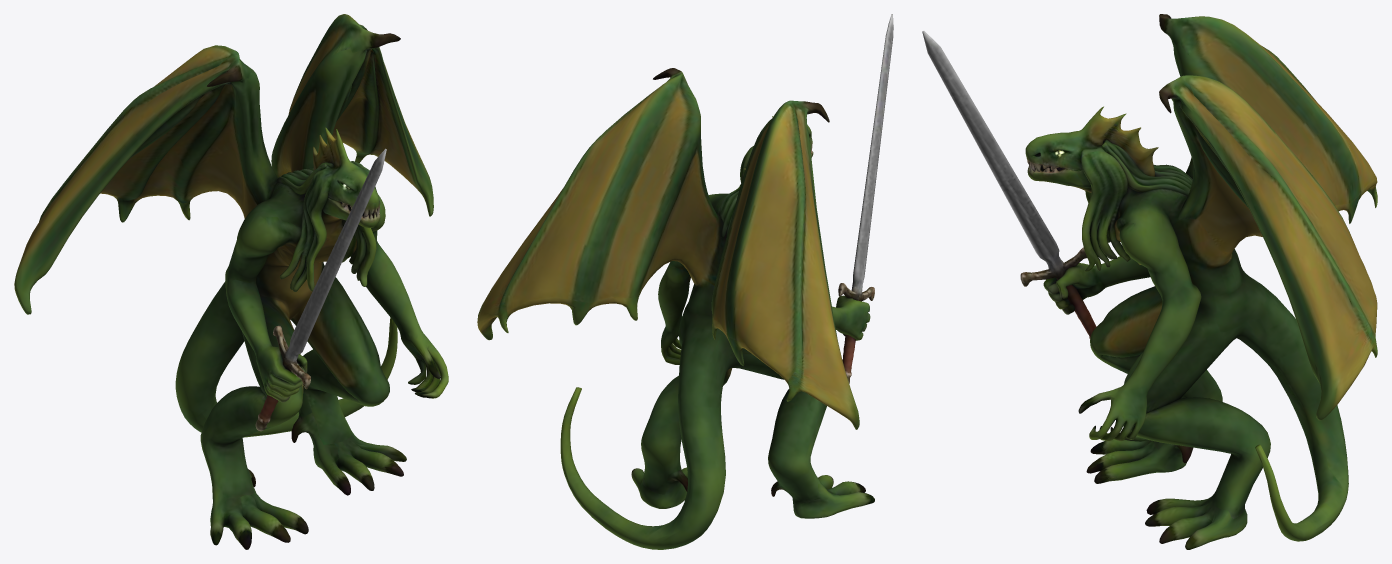
File: MZ4250 - Green Abishai.glb
The picture shows the model from 3 angles, left to right: view 1: azimuth 30°, elevation 25°; view 2: azimuth 150°, elevation 25°; view 3: azimuth 270°, elevation 25°; orthographic projection. The views are drawn at different scales.
Visible parts, largest first — view 1: Head Base Sphere.001; view 2: Head Base Sphere.001; view 3: Head Base Sphere.001.
Boxes of the visible parts, <box> form: Head Base Sphere.001: <box>14,14,448,549</box>; Head Base Sphere.001: <box>477,14,893,549</box>; Head Base Sphere.001: <box>922,14,1377,549</box>.
Size of the model in its own units: 0.9127 by 0.9566 by 0.8666.
1 material, 1 textured.
